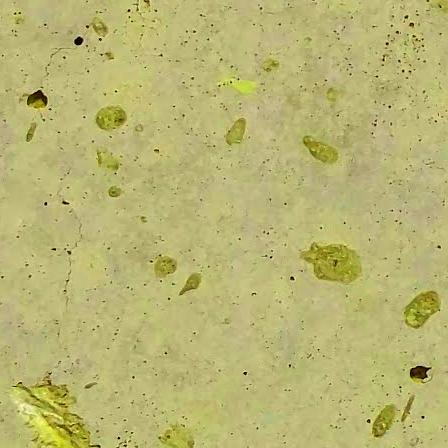crack: (22, 12, 98, 317)
spalling: (1, 360, 108, 448), (408, 361, 431, 386)
